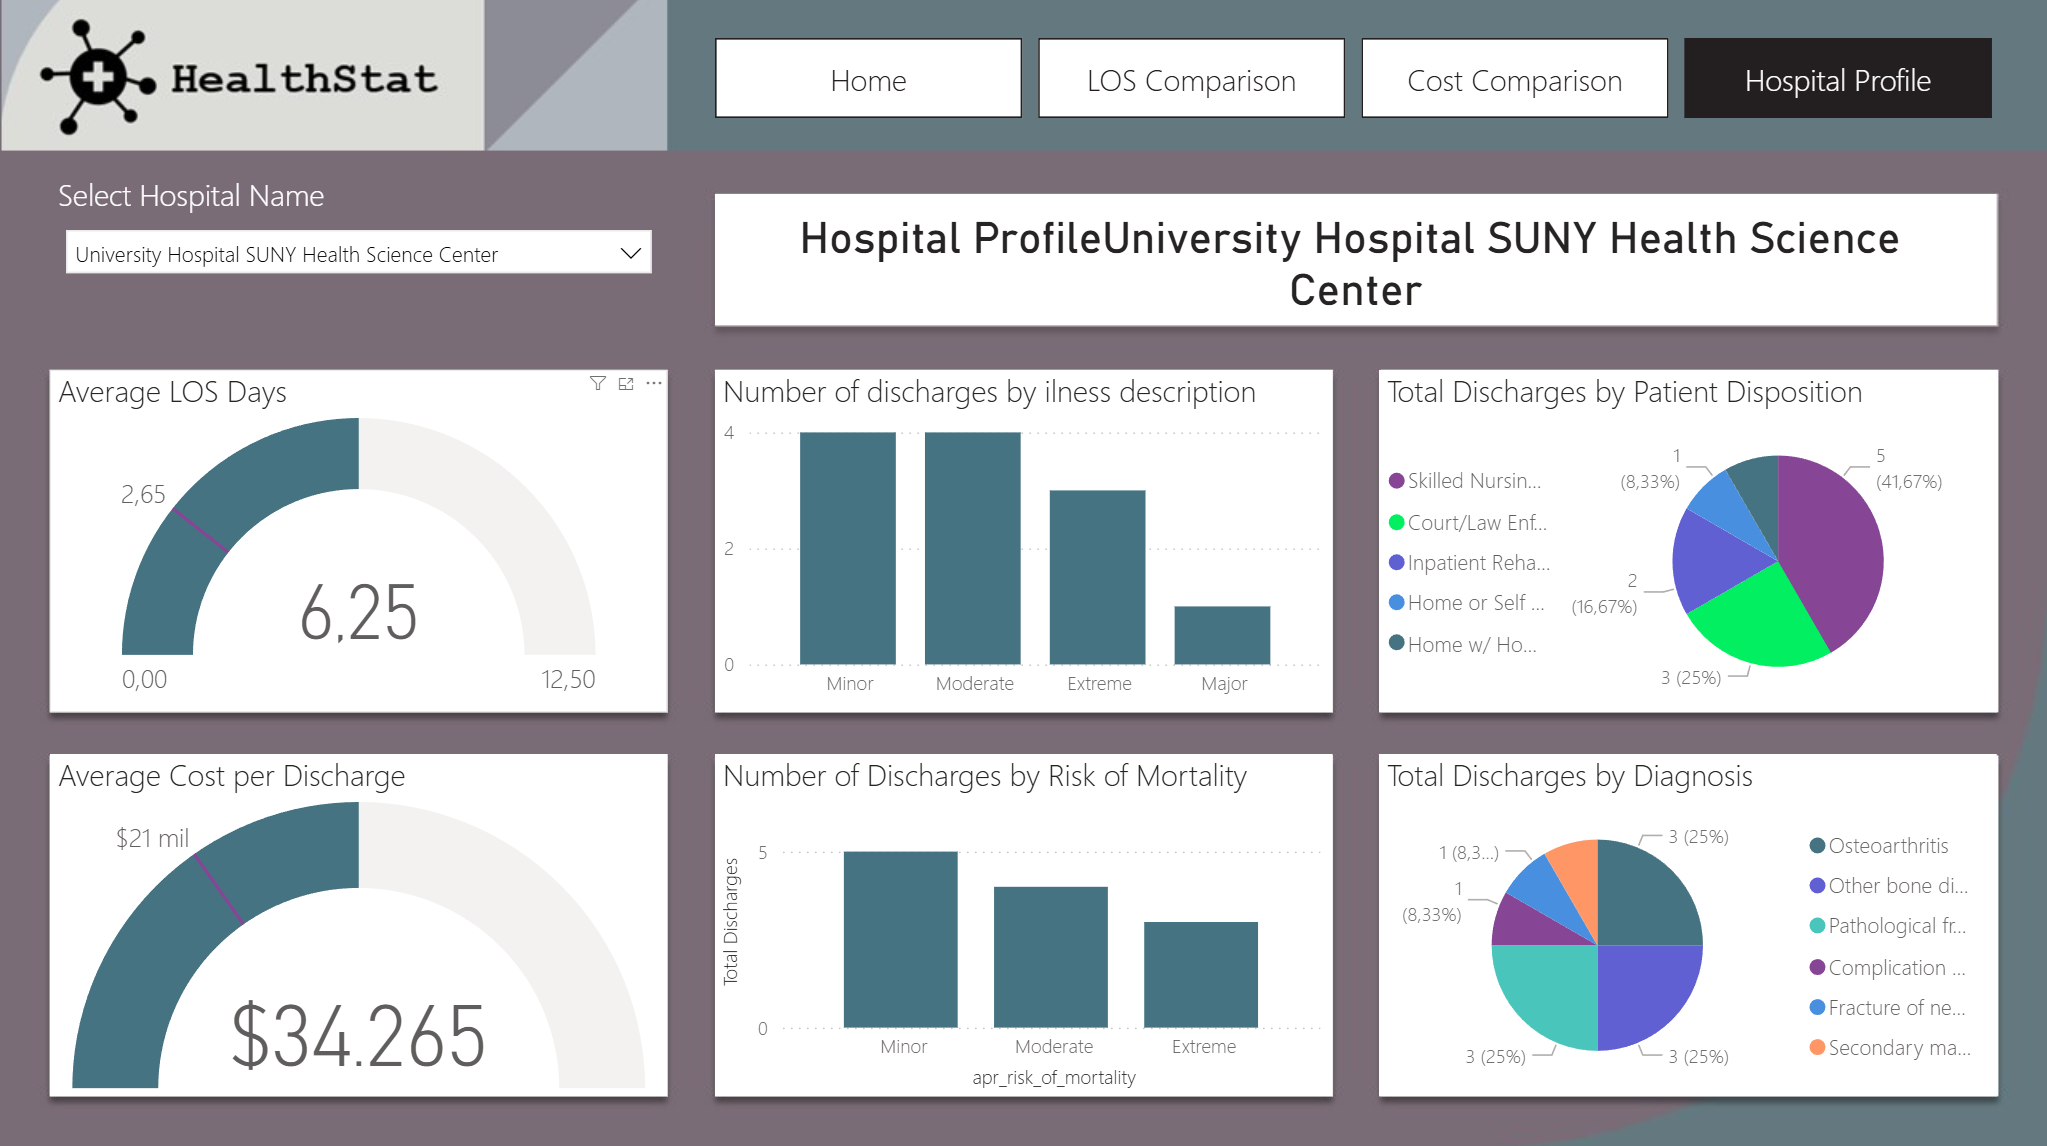

Layout of this report page (visuals, bound fields, positions):
{"tool":"powerbi","page":{"name":"Hospital Profile","canvas":[1280,720],"ordinal":3},"visuals":[{"type":"gauge","title":"Average LOS Days","fields":{"Y":["_Measures.Average LOS Days"],"TargetValue":["_Measures.Average LOS Days All"]},"box":[31.3,231.7,385.9,214],"z":0},{"type":"gauge","title":"Average Cost per Discharge","fields":{"Y":["_Measures.Average Cost per Discharge"],"TargetValue":["_Measures.Average Cost Per Discharge ALL"]},"box":[31.3,472.2,385.9,214],"z":1000},{"type":"clusteredColumnChart","title":"Number of discharges by ilness description","fields":{"Y":["_Measures.Total Discharges"],"Category":["hospital_discharges.apr_severity_of_illness_description"]},"box":[447,231.7,385.9,214],"z":2000},{"type":"clusteredColumnChart","title":"Number of Discharges by Risk of Mortality","fields":{"Y":["_Measures.Total Discharges"],"Category":["hospital_discharges.apr_risk_of_mortality"]},"box":[447,472.2,385.9,214],"z":3000},{"type":"pieChart","title":"Total Discharges by Patient Disposition","fields":{"Y":["_Measures.Total Discharges"],"Category":["hospital_discharges.patient_disposition"]},"box":[862.2,231.7,385.9,214],"z":4000},{"type":"pieChart","title":"Total Discharges by Diagnosis","fields":{"Y":["_Measures.Total Discharges"],"Category":["hospital_discharges.ccs_diagnosis_description"]},"box":[862.2,472.2,385.9,214],"z":5000},{"type":"slicer","title":"Select Hospital Name","fields":{"Values":["hospital_discharges.facility_name"]},"box":[31.3,109.4,385.9,110.7],"z":6000},{"type":"card","fields":{"Values":["_Measures.Title Selected Facilities"]},"box":[447,121.6,801,82.2],"z":7000},{"type":"pageNavigator","box":[447,24.5,801,50.3],"z":8000}]}

Visuals, with their boxes in screenshot pixels (x1, y1, x2, y2), scaled from the page's 1280x720 canvas onto the 2047x1146 screenshot:
"Average LOS Days" gauge: crop(50, 369, 667, 709)
"Average Cost per Discharge" gauge: crop(50, 752, 667, 1092)
"Number of discharges by ilness description" clusteredColumnChart: crop(715, 369, 1332, 709)
"Number of Discharges by Risk of Mortality" clusteredColumnChart: crop(715, 752, 1332, 1092)
"Total Discharges by Patient Disposition" pieChart: crop(1379, 369, 1996, 709)
"Total Discharges by Diagnosis" pieChart: crop(1379, 752, 1996, 1092)
"Select Hospital Name" slicer: crop(50, 174, 667, 350)
card - _Measures.Title Selected Facilities: crop(715, 194, 1996, 324)
pageNavigator: crop(715, 39, 1996, 119)
